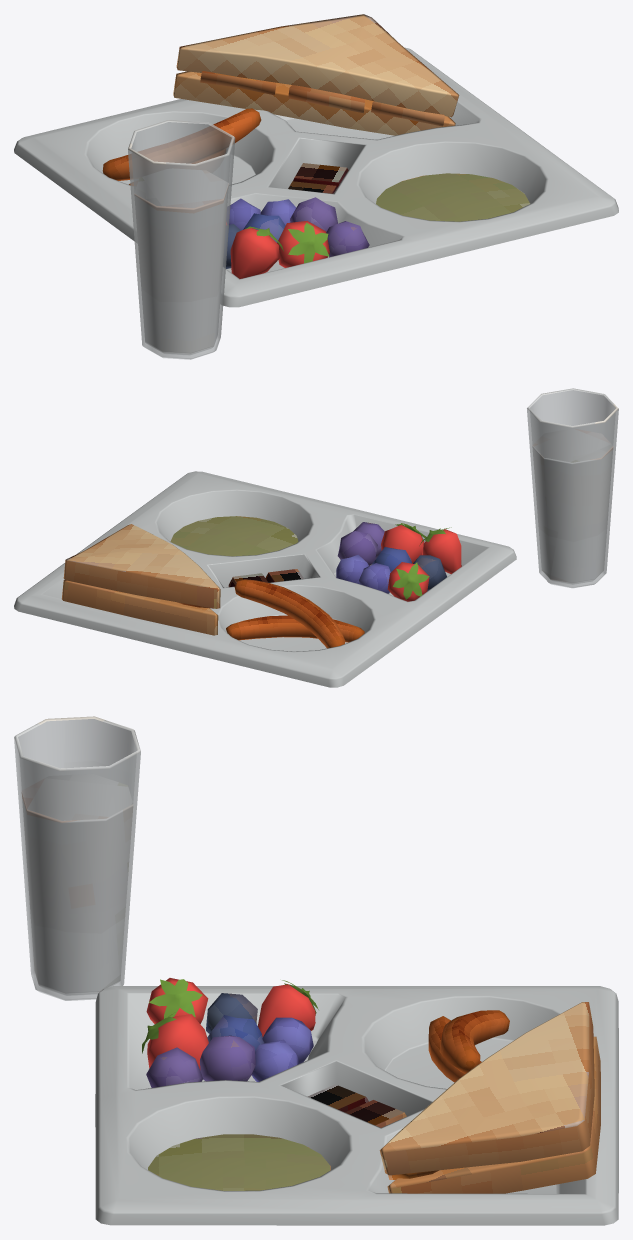
The model's file is a_sch_cafe01_lunch01.gltf.
The picture shows the model from 3 angles, top to bottom: view 1: azimuth 30°, elevation 25°; view 2: azimuth 150°, elevation 25°; view 3: azimuth 270°, elevation 25°; orthographic projection. The views are drawn at different scales.
Parts seen in each view (by area): view 1: um_a_sch_cafe01_lunch01_model_a_sch_cafe01_lunch01_modelShap (×6); view 2: um_a_sch_cafe01_lunch01_model_a_sch_cafe01_lunch01_modelShap (×6); view 3: um_a_sch_cafe01_lunch01_model_a_sch_cafe01_lunch01_modelShap (×6).
Part boxes in pixels (x1,y1,x2,y2): um_a_sch_cafe01_lunch01_model_a_sch_cafe01_lunch01_modelShap (×6): (14, 14, 618, 359); um_a_sch_cafe01_lunch01_model_a_sch_cafe01_lunch01_modelShap (×6): (14, 388, 618, 687); um_a_sch_cafe01_lunch01_model_a_sch_cafe01_lunch01_modelShap (×6): (14, 716, 618, 1225).
Bounding box in the file's own units: 0.3949 × 0.1539 × 0.3501.
Materials: 6 (6 with a texture image).
